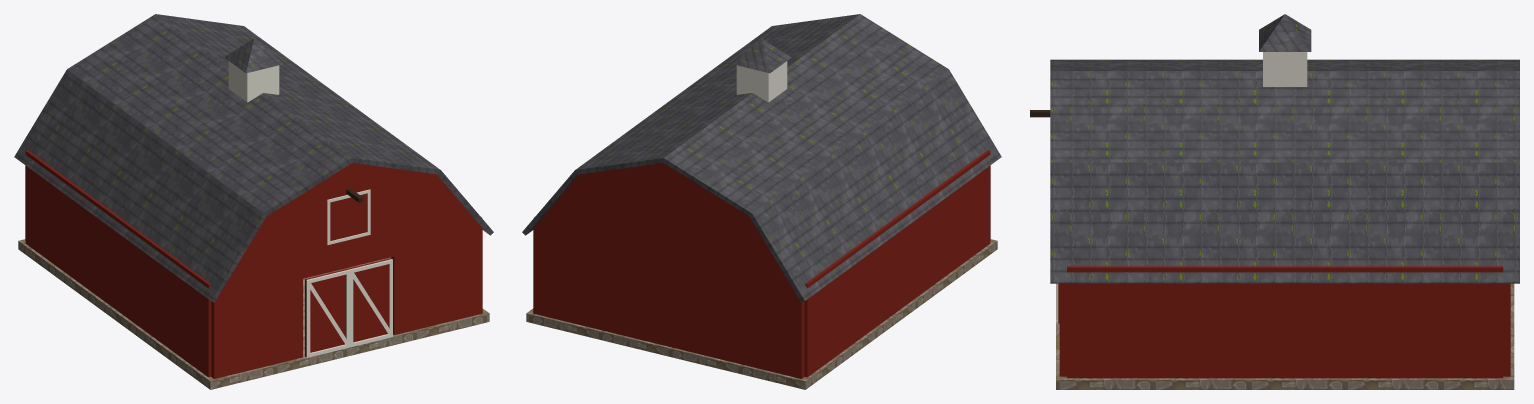
The model's file is gambrel_barn.glb.
The picture shows the model from 3 angles, left to right: view 1: azimuth 30°, elevation 25°; view 2: azimuth 150°, elevation 25°; view 3: azimuth 270°, elevation 25°; orthographic projection. The views are drawn at different scales.
Visible parts, largest first — view 1: Gambrel.020, Gambrel.021, Wall.006, Gable.024, Gambrel.023, Wall.002, Wall.003, Footing.001, Door.008, Door.014, Cupola.032, Wall.004 (+3 smaller); view 2: Wall.005, Gambrel.020, Gambrel.021, Wall.006, Gable.025, Gambrel.023, Footing.001, Cupola.032, CupolaRoof.033, Gambrel.022; view 3: Gambrel.022, Wall.007, Gambrel.023, Footing.001, Gambrel.021, CupolaRoof.033, Cupola.032, Wall.005, Wall.003.
Boxes of the visible parts, x1,y1,x2,y2 form: Gambrel.020: (14,69,266,302); Gambrel.021: (67,14,353,216); Wall.006: (25,150,211,377); Gable.024: (226,163,476,283); Gambrel.023: (156,14,440,174); Wall.002: (211,265,302,378); Wall.003: (391,222,482,334); Footing.001: (18,239,489,389); Door.008: (305,268,348,356); Door.014: (348,258,391,342); Cupola.032: (228,61,279,102); Wall.004: (303,242,394,278); Wall.005: (533,222,804,378); Gambrel.020: (749,69,1001,302); Gambrel.021: (662,14,948,216); Wall.006: (804,150,990,377); Gable.025: (539,163,789,283); Gambrel.023: (575,14,859,174); Footing.001: (526,239,997,389); Cupola.032: (736,61,787,102); CupolaRoof.033: (732,38,791,73); Gambrel.022: (522,170,578,235); Gambrel.022: (1050,162,1519,283); Wall.007: (1067,266,1503,378); Gambrel.023: (1050,71,1519,162); Footing.001: (1056,283,1514,389); Gambrel.021: (1050,59,1519,70); CupolaRoof.033: (1259,14,1311,51); Cupola.032: (1263,52,1307,86); Wall.005: (1503,283,1510,376); Wall.003: (1059,283,1066,376).
Size of the model in its own units: 10.53 by 8.8 by 13.25.
Materials: 5 (3 with a texture image).
